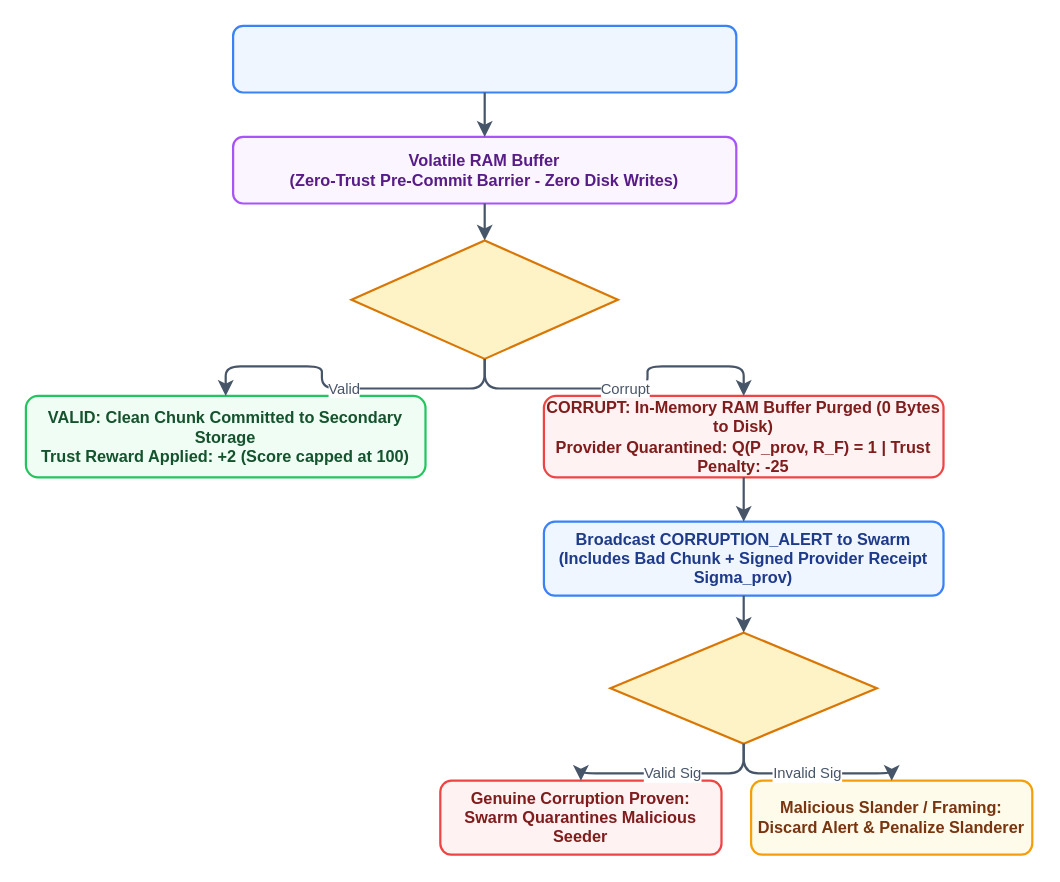
This 1060x882 diagram has some shape labels left out. The shapes that lost their labels are listed below. From the top down, each one's centre as x and y in pixels, then its label:
At (x=484, y=58): "Inbound Chunk C_k + Proof Pi_k + Receipt Sigma_prov (From Provider Peer)".
At (x=484, y=299): "RFC 6962 Check: Reconstructed Root == Expected R_F?".
At (x=743, y=687): "Witness Peers Verify Provider Signature on Receipt Sigma_prov?".
